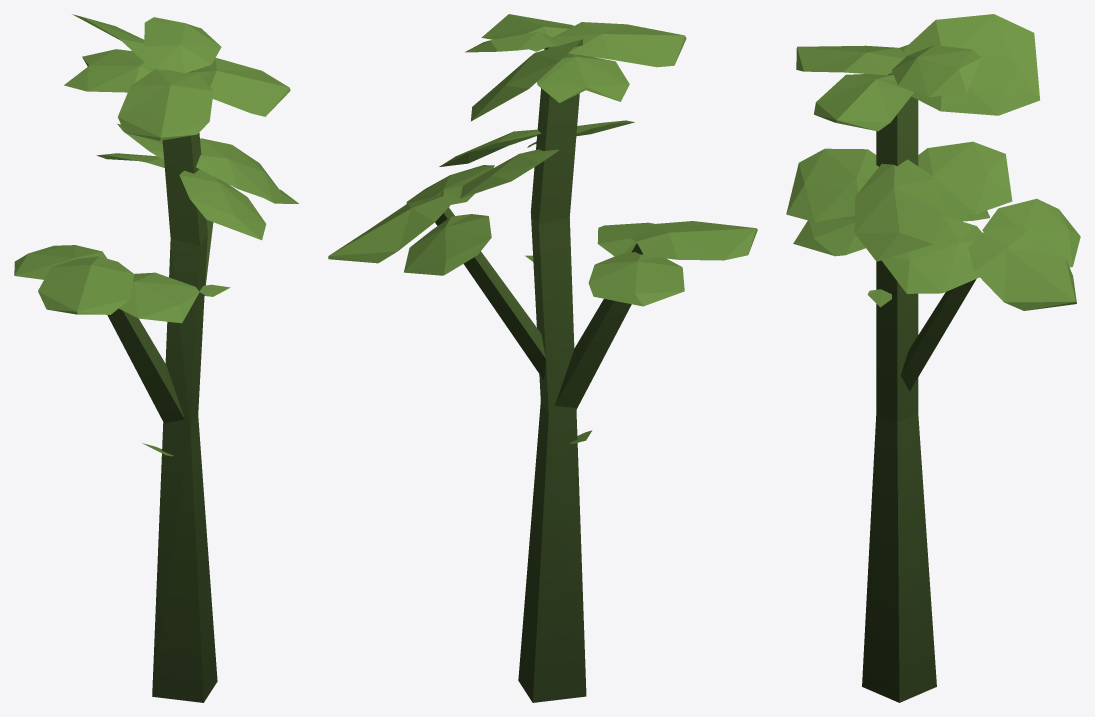
The model's file is Crop_Potato_STAGE_3_01.obj.
3 views of the same model, side by side, from view 1: azimuth 30°, elevation 25°; view 2: azimuth 150°, elevation 25°; view 3: azimuth 270°, elevation 25° (orthographic). The views are drawn at different scales.
Parts seen in each view (by area): view 1: Crop_Potato_STAGE_3_01; view 2: Crop_Potato_STAGE_3_01; view 3: Crop_Potato_STAGE_3_01.
Part boxes in pixels (bbox=[...]): Crop_Potato_STAGE_3_01: bbox=[14, 14, 298, 702]; Crop_Potato_STAGE_3_01: bbox=[328, 14, 757, 702]; Crop_Potato_STAGE_3_01: bbox=[786, 14, 1080, 702].
Size of the model in its own units: 0.3225 by 0.6928 by 0.2861.
1 material, 1 textured.
